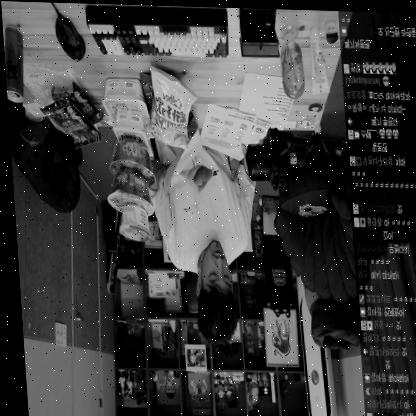streamer: (142, 124, 269, 343)
